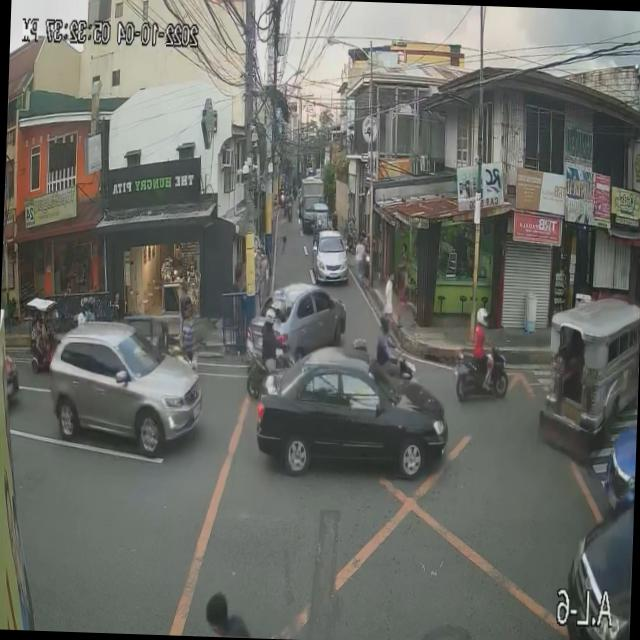full: (475, 305, 490, 328)
